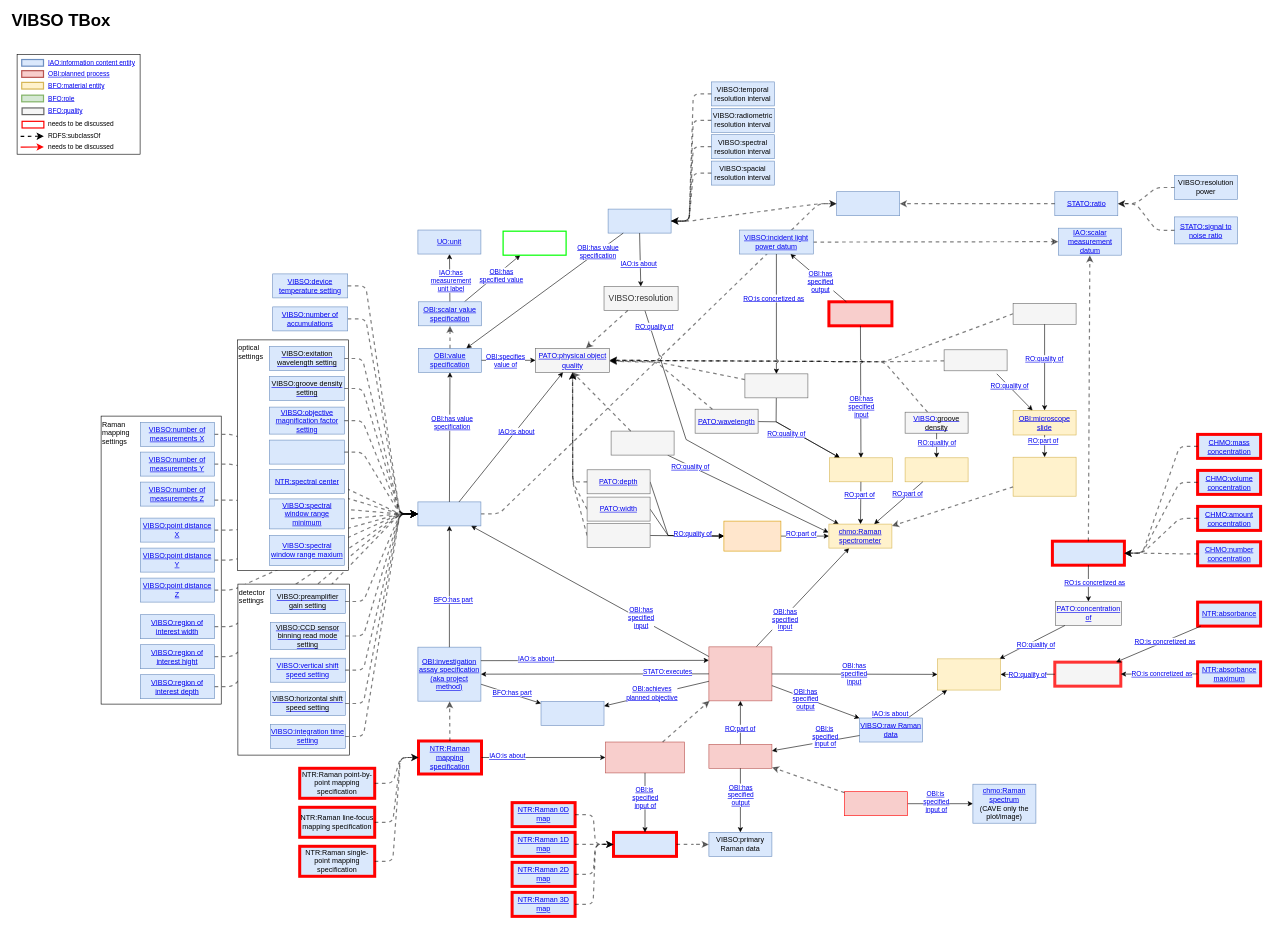
This 1272x928 diagram has some shape labels left out. The centre of each missing label's shape, as x and y in pixels:
???:plotting: the point at 876,803
CHMO:concentration: the point at 1088,552
chmo:Raman microscope also is a obi:microscope: the point at 1044,476
CHMO:Raman microscopy (aka Raman imaging): the point at 645,757
CHMO:Raman spectroscopy: the point at 740,673
IAO:data item: the point at 868,203
IAO:setting datum: the point at 449,513
NTR:laser power measurement: the point at 860,313
NTR:Raman map: the point at 645,844
OBI:assay objective: the point at 572,713
OBI:data transformation: the point at 740,756
OBI:laser: the point at 860,469
OBI:material sample: the point at 968,674
PATO: absorption quality: the point at 1087,673
PATO:hight: the point at 618,535
PATO:lateral orientation: the point at 975,360
PATO:longitudinal orientation: the point at 1044,313
PATO:power: the point at 776,385
PATO:temperature: the point at 642,442
rdfs:Literal: the point at 534,242
VIBSO: diffraction grating: the point at 936,469
VIBSO:numerical aperture: the point at 306,452
VIBSO:region of interest (a BFO:site): the point at 752,535
VIBSO:resolution interval: the point at 639,220
